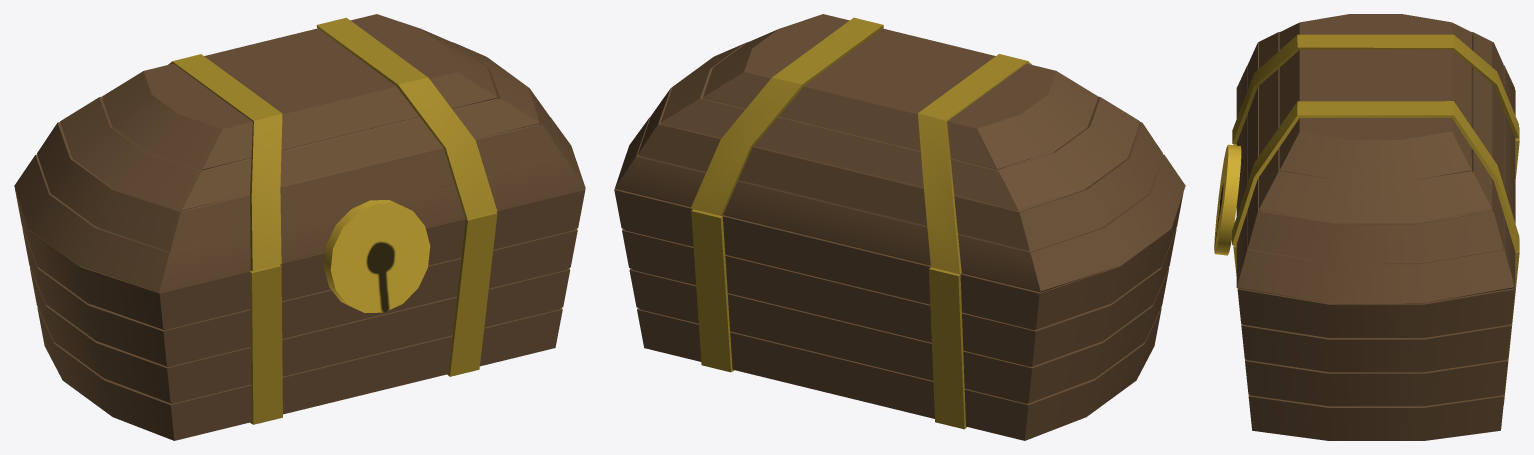
3 renders of one model, left to right at view 1: azimuth 30°, elevation 25°; view 2: azimuth 150°, elevation 25°; view 3: azimuth 270°, elevation 25°, orthographic. The views are drawn at different scales.
Visible parts, largest first — view 1: 盖子, 身体; view 2: 盖子, 身体; view 3: 盖子, 身体.
Boxes of the visible parts, x1,y1,x2,y2 form: 盖子: (14,14,585,312); 身体: (15,189,585,440); 盖子: (615,14,1185,292); 身体: (614,188,1183,440); 盖子: (1214,14,1519,303); 身体: (1233,90,1519,440).
Size of the model in its own units: 1.96 by 1.07 by 1.1.
3 materials, 1 textured.
